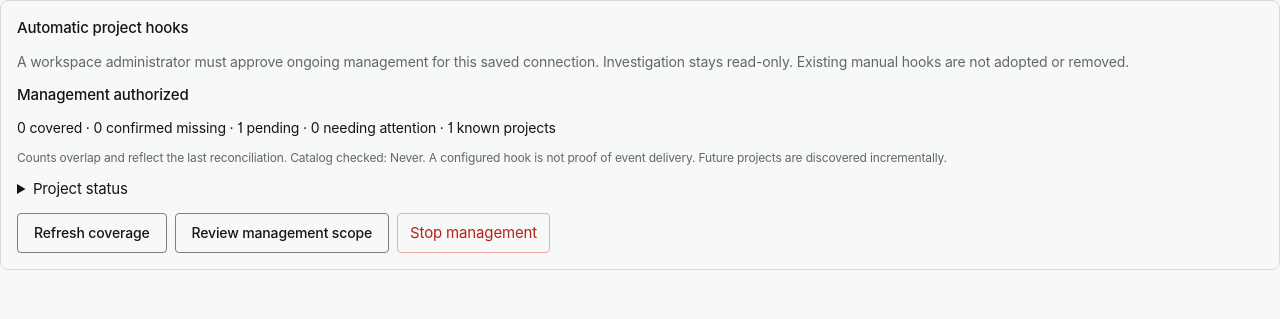
Test: exposes uncertain creation and an explicit stop action without claiming hook deletion
Click the button "Stop management".
click(474, 233)  # box [397, 212, 550, 253]
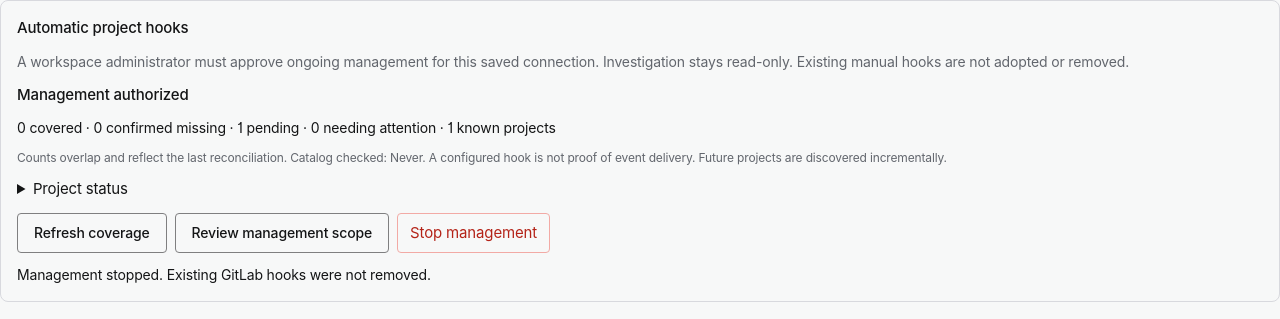
Result: the text "Management stopped. Existing GitLab hooks were not removed." is shown at [17, 266, 431, 283]
